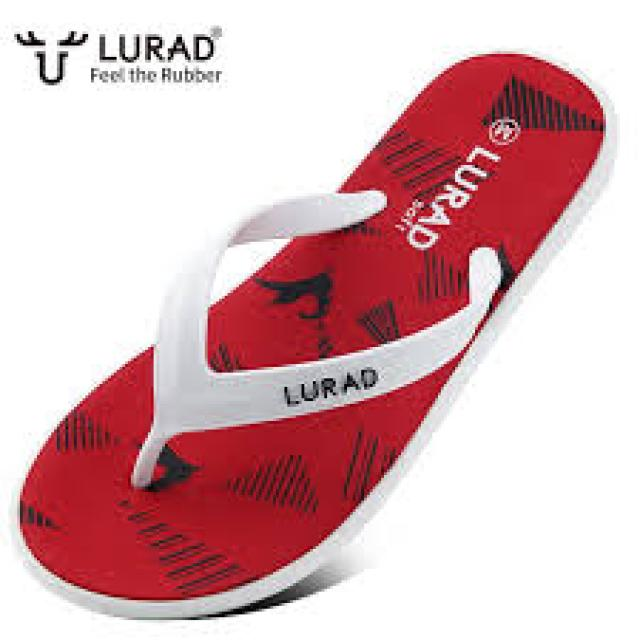Sandals: (9, 23, 640, 640)
